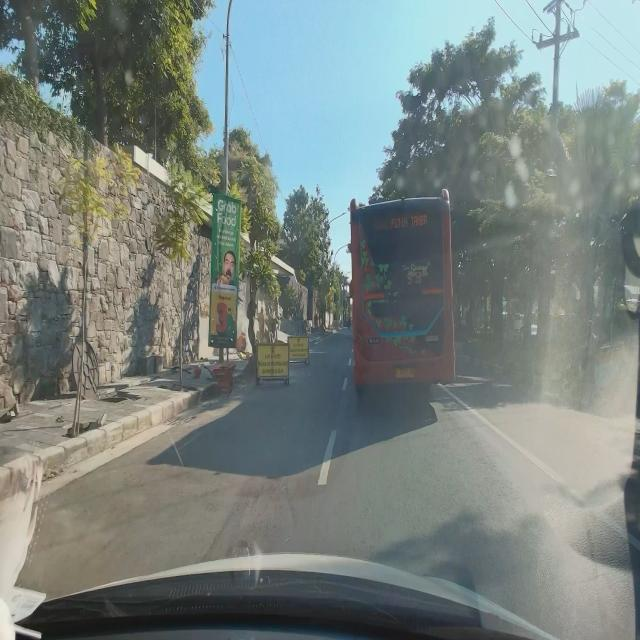bus: (348, 185, 458, 398)
license-plate: (394, 368, 414, 378)
